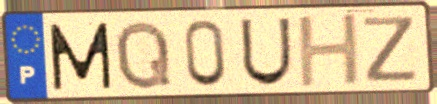0: (182, 18, 229, 89)
H: (295, 11, 365, 90)
M: (46, 20, 115, 93)
Q: (114, 18, 175, 92)
U: (238, 16, 294, 89)
Z: (360, 14, 420, 85)
